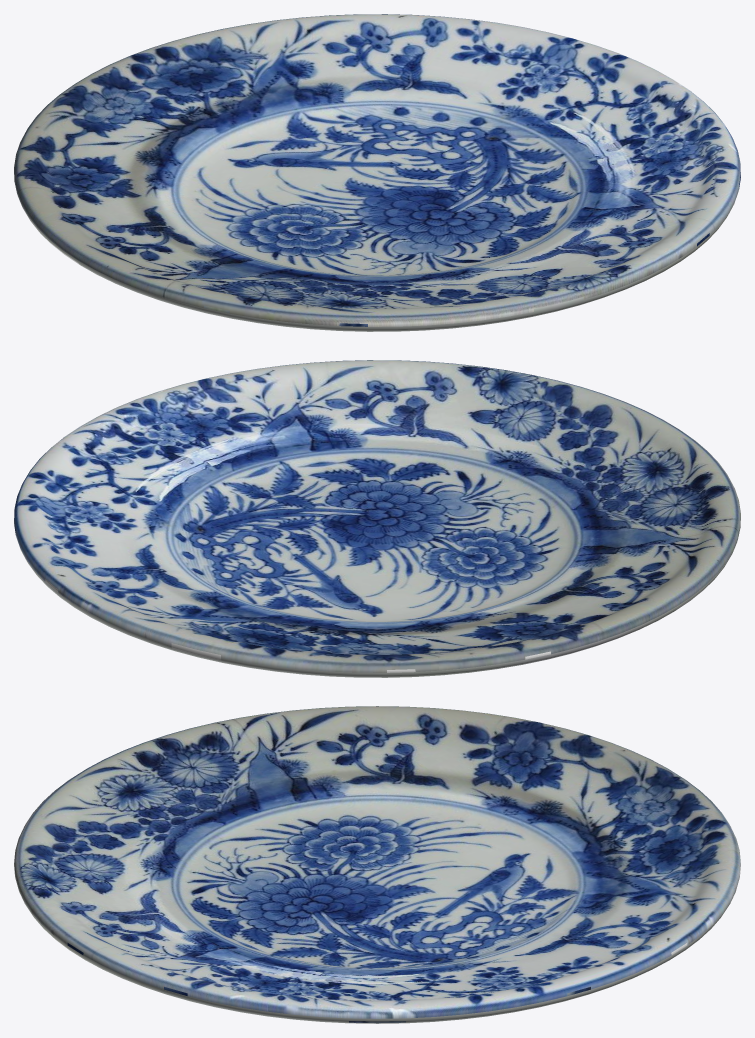
Rendered from plate.fbx.
3 renders of one model, top to bottom at view 1: azimuth 30°, elevation 25°; view 2: azimuth 150°, elevation 25°; view 3: azimuth 270°, elevation 25°, orthographic.
Visible parts, largest first — view 1: pCylinder1; view 2: pCylinder1; view 3: pCylinder1.
Part boxes in pixels (x1,y1,x2,y2): pCylinder1: (14, 14, 740, 331); pCylinder1: (14, 360, 740, 677); pCylinder1: (14, 706, 740, 1023).
Size of the model in its own units: 46.36 by 3.67 by 46.36.
1 material, 1 textured.
